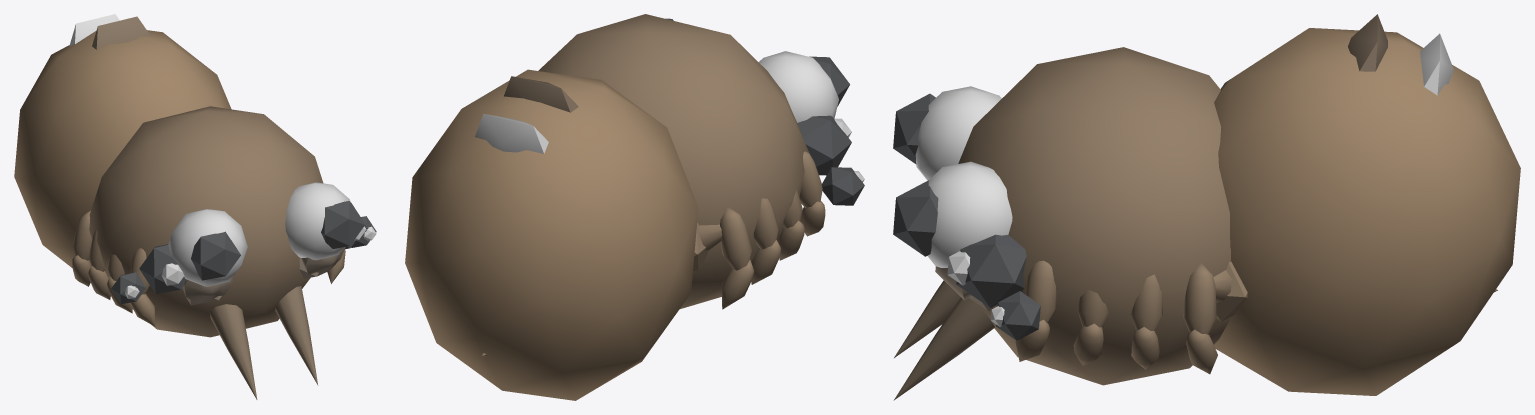
Rendered from telamonia-vlijmi.glb.
3 renders of one model, left to right at view 1: azimuth 30°, elevation 25°; view 2: azimuth 150°, elevation 25°; view 3: azimuth 270°, elevation 25°, orthographic. The views are drawn at different scales.
Visible parts, largest first — view 1: cephalothorax, abdomen, eye0-r, eye0-l, fang-r, fang-l, eye1-r, leg3-r0, leg0-r0, leg2-r0, eye2-r, palp-r1 (+3 smaller); view 2: abdomen, cephalothorax, eye0-r, leg3-r0, eye1-r, leg2-r0, leg0-r0, eye2-r, leg1-r0; view 3: abdomen, cephalothorax, eye0-l, eye0-r, eye1-l, leg3-l0, fang-l, leg2-l0, leg0-l0, leg1-l0, eye2-l, fang-r.
Part boxes in pixels (<box>): cephalothorax: <box>89,106,323,337</box>; abdomen: <box>14,14,231,267</box>; eye0-r: <box>168,209,247,286</box>; eye0-l: <box>285,182,364,260</box>; fang-r: <box>209,304,257,399</box>; fang-l: <box>275,286,318,385</box>; eye1-r: <box>139,244,185,293</box>; leg3-r0: <box>72,210,91,286</box>; leg0-r0: <box>130,248,155,326</box>; leg2-r0: <box>88,228,110,299</box>; eye2-r: <box>111,272,146,304</box>; palp-r1: <box>184,278,232,303</box>; abdomen: <box>405,69,698,400</box>; cephalothorax: <box>538,14,808,308</box>; eye0-r: <box>758,51,849,122</box>; leg3-r0: <box>699,207,754,309</box>; eye1-r: <box>797,115,851,175</box>; leg2-r0: <box>751,198,780,284</box>; leg0-r0: <box>799,151,825,236</box>; eye2-r: <box>822,167,864,205</box>; leg1-r0: <box>777,190,804,260</box>; abdomen: <box>1214,14,1520,395</box>; cephalothorax: <box>958,47,1247,385</box>; eye0-l: <box>893,161,1012,267</box>; eye0-r: <box>893,86,1001,180</box>; eye1-l: <box>947,234,1026,307</box>; leg3-l0: <box>1183,263,1231,374</box>; fang-l: <box>893,297,994,400</box>; leg2-l0: <box>1130,274,1162,370</box>; leg0-l0: <box>1015,260,1056,361</box>; leg1-l0: <box>1073,290,1108,366</box>; eye2-l: <box>990,291,1040,340</box>; fang-r: <box>894,280,960,357</box>.
Size of the model in its own units: 0.2658 by 0.246 by 0.3964.
